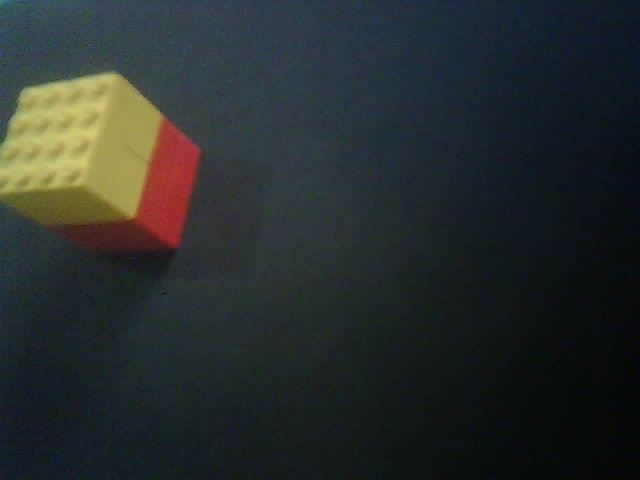lego: (1, 70, 203, 255)
